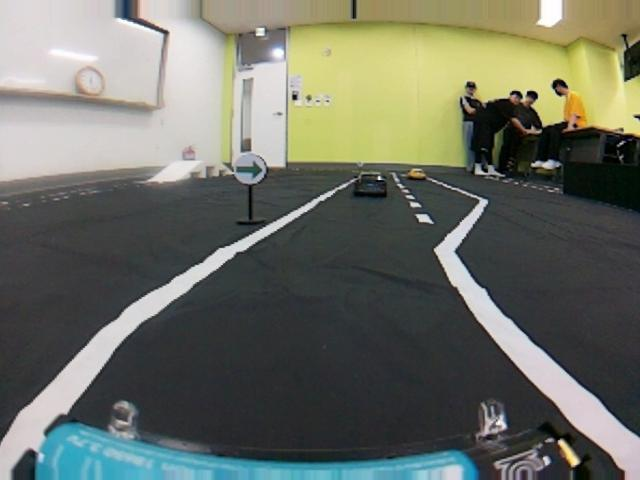car: (356, 164, 391, 197)
sign_right: (230, 153, 270, 182)
straight: (4, 233, 640, 474)
